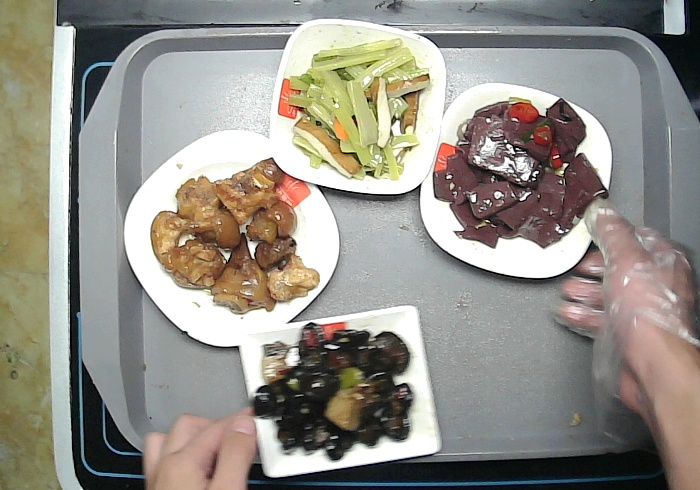SHKJ-Bai_Se_Cai_Die: (417, 80, 614, 283)
SHKJ-Bai_Se_Si_Fang_Cai_Die: (122, 127, 342, 348)
SHKJ-Bai_Se_Xiao_Fang_Die: (267, 15, 448, 198)
SHKJ-Si_Fang_Min: (238, 303, 443, 478)
